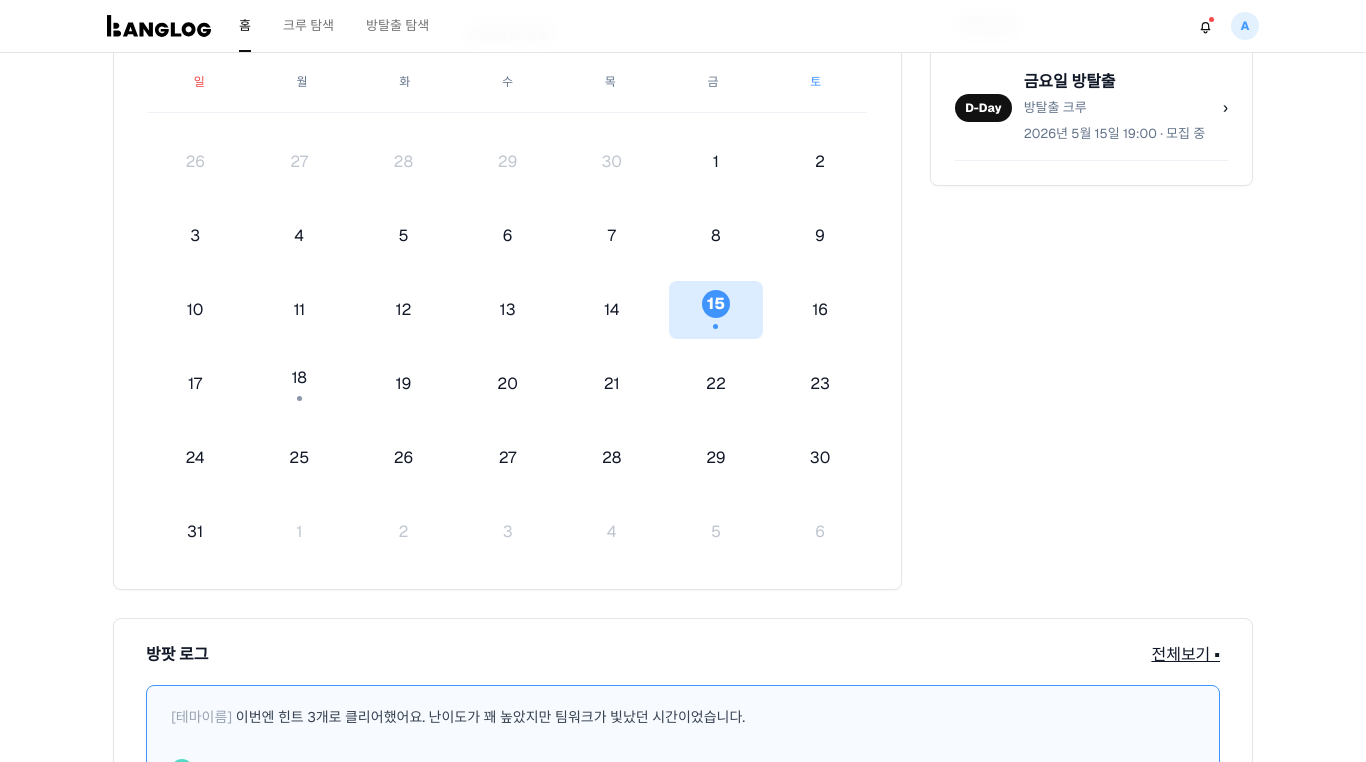
ProfilePage › loads the profile hub and shows the calendar section with selectable schedules
This screenshot has width=1366, height=762.
(page scrolled)
Expected: the heading "방팟 로그" is shown, x1=146 y1=643 x2=208 y2=667
Expected: the text "[테마이름] 이번엔 힌트 3개로 클리어했어요. 난이도가 꽤 높았지만 팀워크가 빛났던 시간이었습니다." is shown, x1=171 y1=708 x2=745 y2=726
Click the button named "18일 취소 1개": (299,384) x1=252 y1=355 x2=346 y2=413
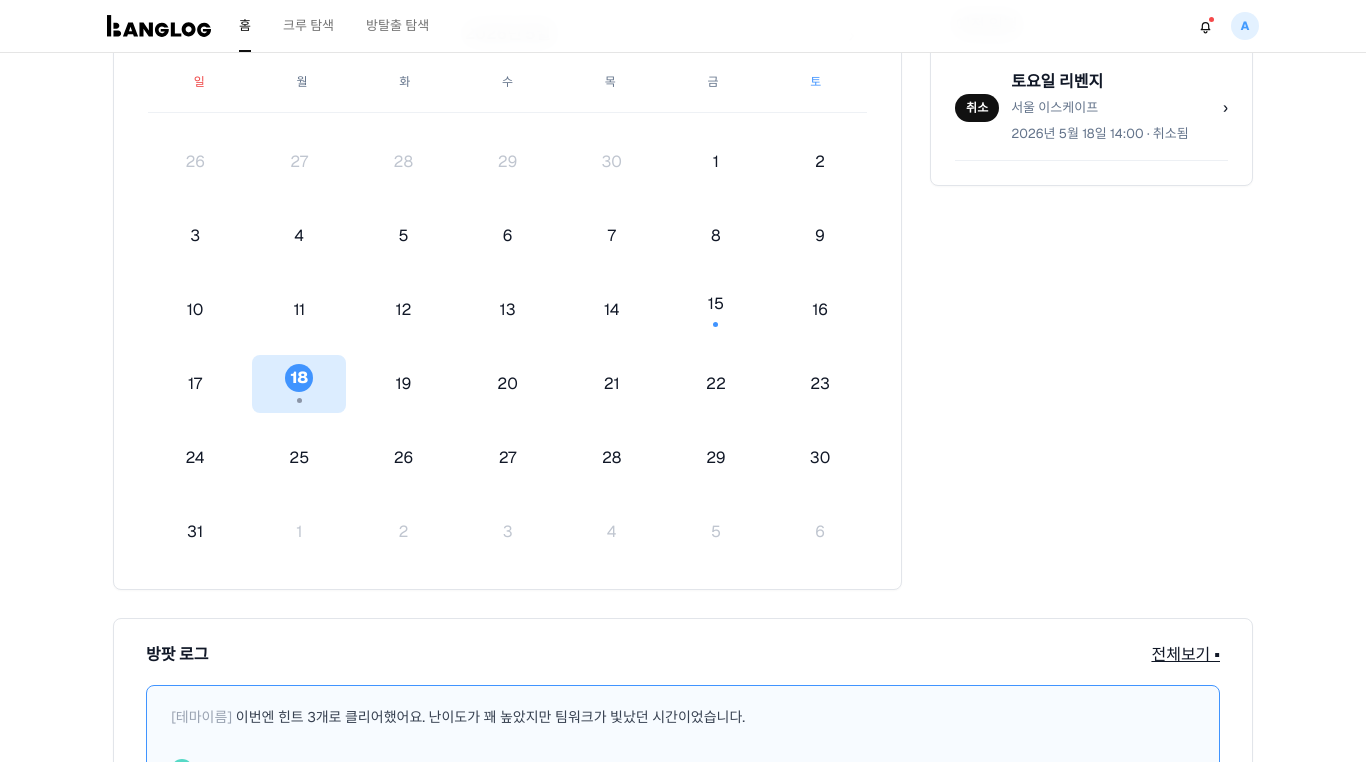
Expected: the text "토요일 리벤지" is shown, x1=1011 y1=71 x2=1103 y2=92
Expected: the text "서울 이스케이프" is shown, x1=1011 y1=99 x2=1098 y2=116
Expected: the text "2026년 5월 18일 14:00 · 취소됨" is shown, x1=1011 y1=122 x2=1211 y2=146
